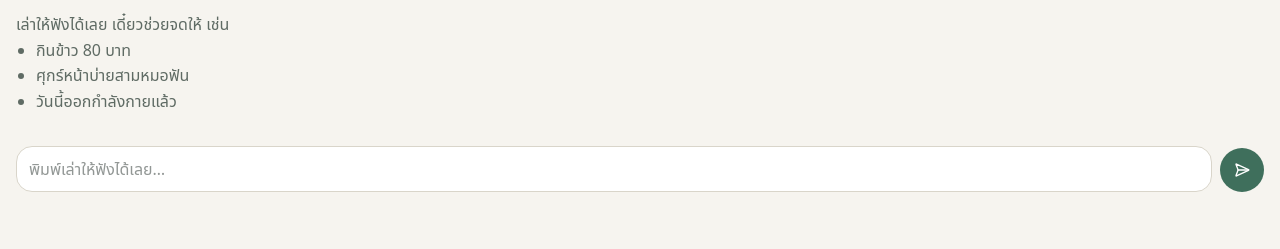
Test: IME Enter does not send, normal Enter does
Expected: the list is shown, [16,13,229,112]
Type "สวัส" into the text box labelled "พิมพ์เล่าให้ฟังได้เลย…".
click(614, 169); type("สวัส")  # box [16,146,1212,192]
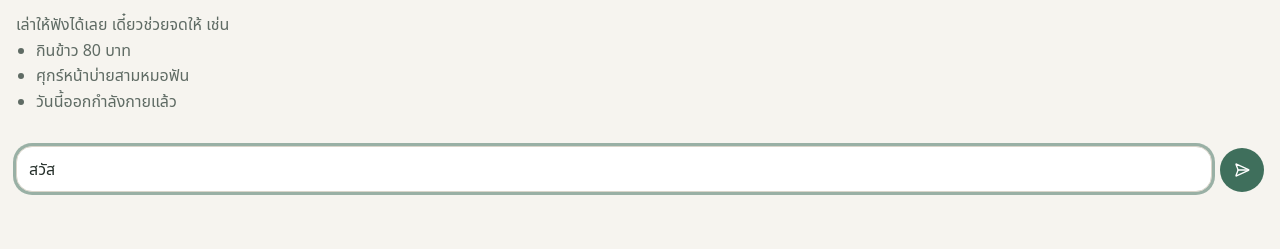
Press Enter in the text box named "พิมพ์เล่าให้ฟังได้เลย…", box [16,146,1212,192]
Press Enter in the text box named "พิมพ์เล่าให้ฟังได้เลย…", box [16,146,1212,192]
Press Enter in the text box named "พิมพ์เล่าให้ฟังได้เลย…", box [16,146,1212,192]
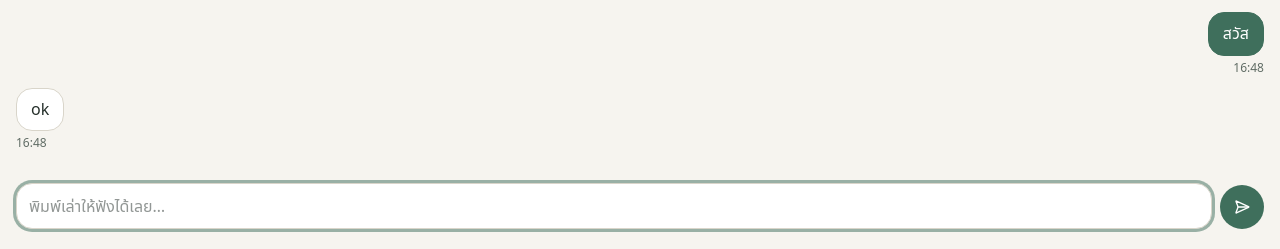
Result: the text "ok" is shown at [16,88,64,131]
